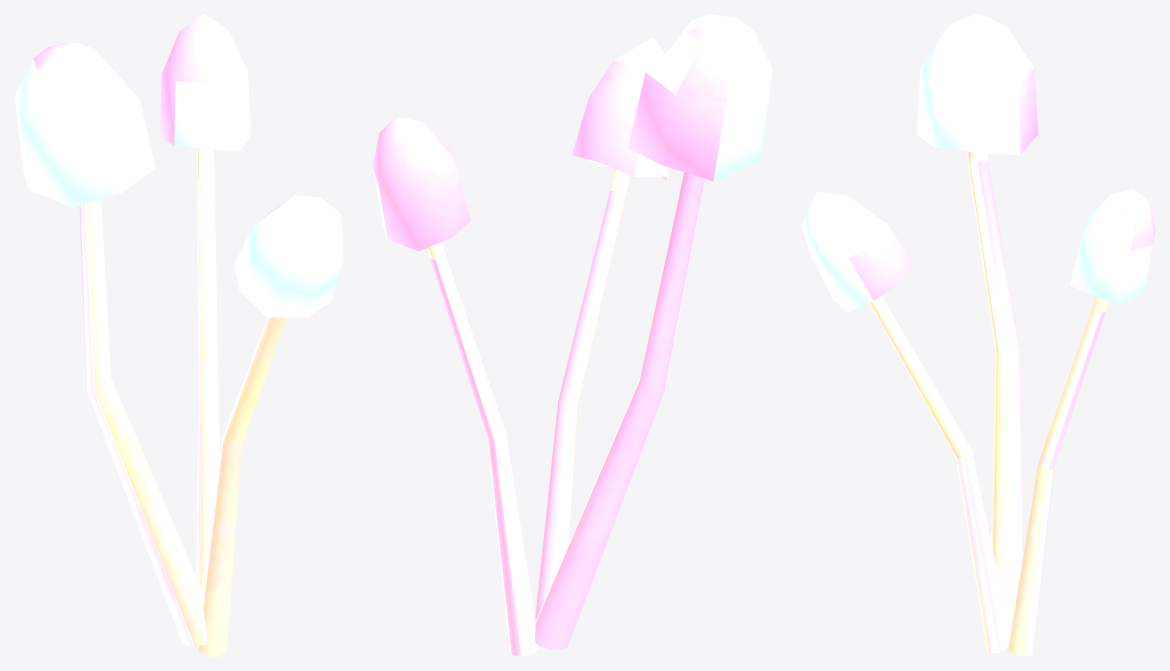
Rendered from setaXL10.fbx.
3 renders of one model, left to right at view 1: azimuth 30°, elevation 25°; view 2: azimuth 150°, elevation 25°; view 3: azimuth 270°, elevation 25°, orthographic. The views are drawn at different scales.
Visible parts, largest first — view 1: SetaXL_10; view 2: SetaXL_10; view 3: SetaXL_10.
Part boxes in pixels (bbox=[...]): SetaXL_10: bbox=[14, 14, 343, 656]; SetaXL_10: bbox=[372, 14, 772, 656]; SetaXL_10: bbox=[801, 14, 1155, 656].
Bounding box in the file's own units: 4021 × 8342 × 4710.
